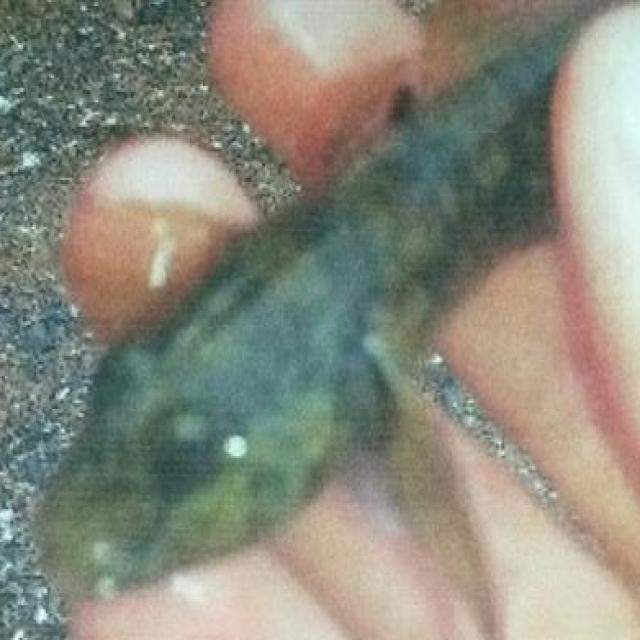Goby: (30, 0, 610, 640)
